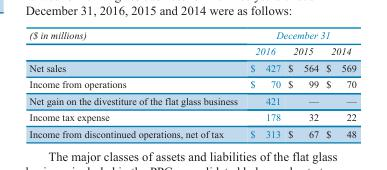table: (28, 29, 355, 138)
table column: (28, 29, 243, 138), (243, 29, 283, 138), (283, 29, 321, 138), (321, 29, 355, 138)
table column header: (28, 29, 355, 59)
table row: (28, 42, 355, 59), (28, 75, 355, 92), (28, 59, 355, 75), (28, 92, 355, 108), (28, 108, 355, 124), (28, 124, 355, 138), (28, 29, 355, 42)
table spanning cell: (28, 29, 243, 59), (243, 29, 355, 42)
